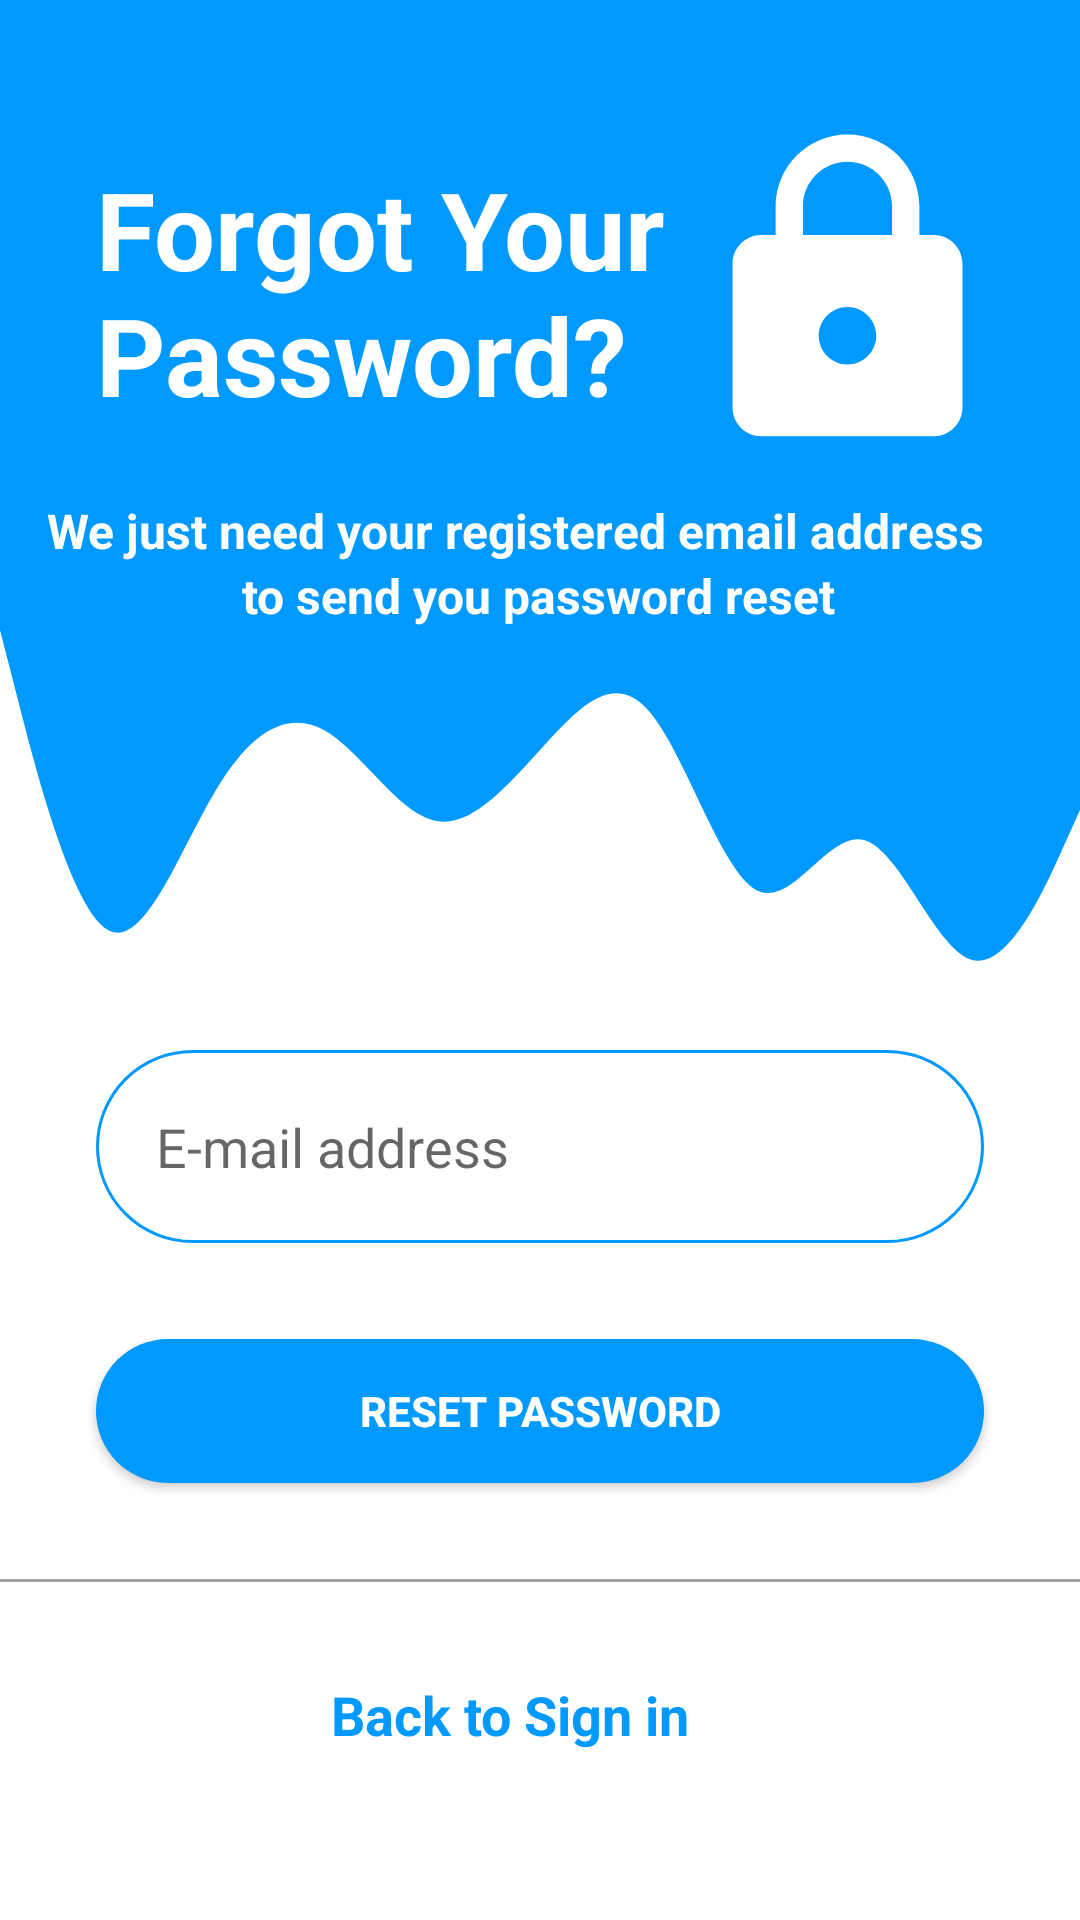

Icons on this 1080x1920 Android screen, each with its box as (x1, y1, x2, y2):
lock: (732, 134, 963, 437)
